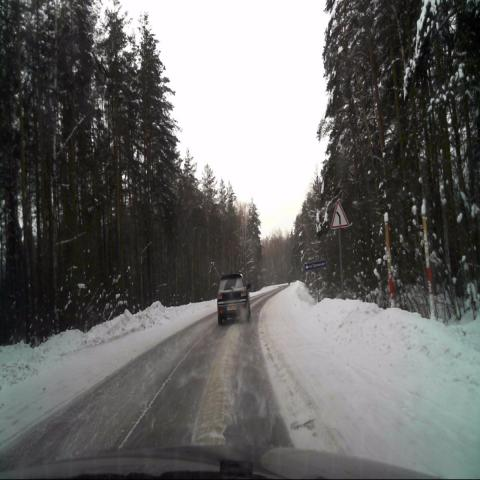1_11_1: (331, 199, 348, 231)
